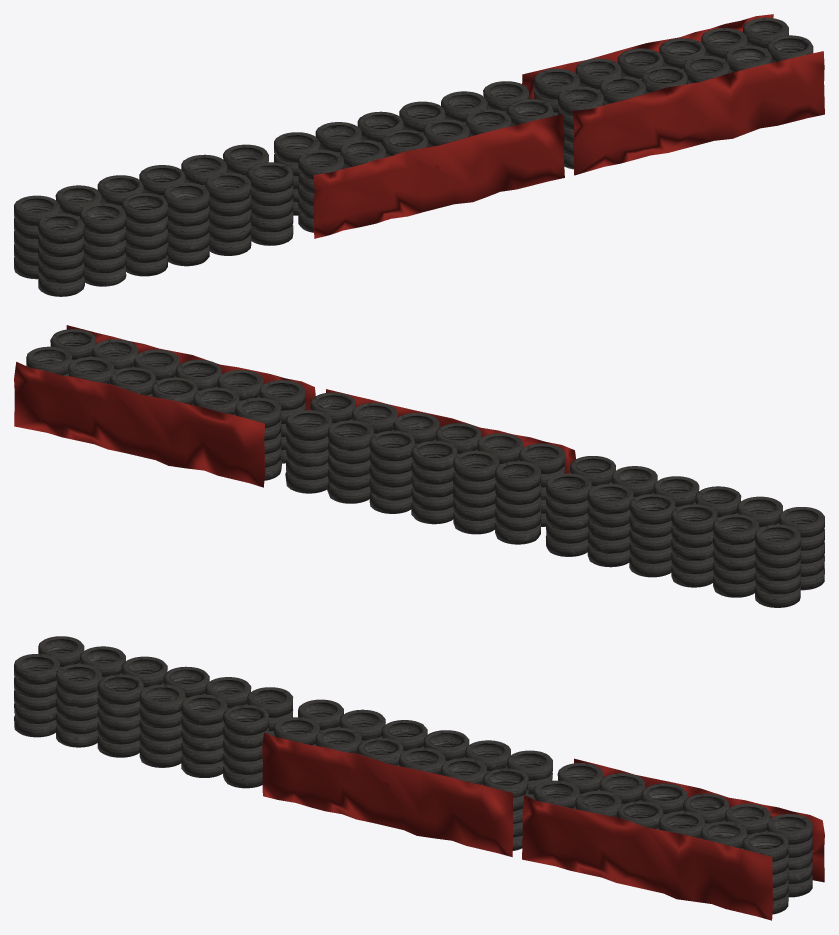
File: tyre-barrier.glb
3 renders of one model, top to bottom at view 1: azimuth 30°, elevation 25°; view 2: azimuth 150°, elevation 25°; view 3: azimuth 330°, elevation 25°, orthographic.
Visible parts, largest first — view 1: barrier_tyre.002_barrier_tyre_0, barrier_tyre_barrier_tyre_2_0; view 2: barrier_tyre.002_barrier_tyre_0, barrier_tyre_barrier_tyre_2_0; view 3: barrier_tyre.002_barrier_tyre_0, barrier_tyre_barrier_tyre_2_0.
Part boxes in pixels (<box>): barrier_tyre.002_barrier_tyre_0: <box>14,17,813,296</box>; barrier_tyre_barrier_tyre_2_0: <box>313,14,824,238</box>; barrier_tyre.002_barrier_tyre_0: <box>26,329,824,607</box>; barrier_tyre_barrier_tyre_2_0: <box>14,325,575,487</box>; barrier_tyre.002_barrier_tyre_0: <box>14,636,812,914</box>; barrier_tyre_barrier_tyre_2_0: <box>262,732,824,920</box>.
Bounding box in the file's own units: 15.41 × 1.25 × 1.96.
Materials: 2 (1 with a texture image).
